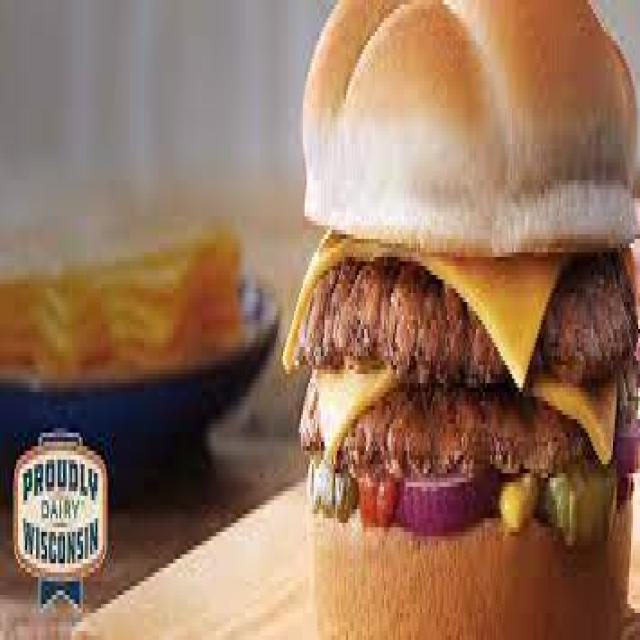햄버거: (285, 0, 640, 640)
